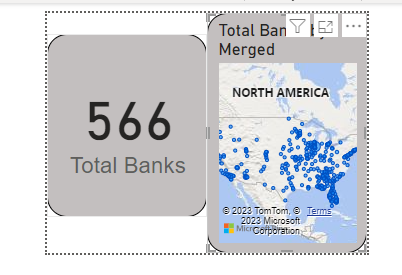

This screenshot's page, from the dashboard's own definition file:
{"tool":"powerbi","page":{"name":"Tooltip","canvas":[320,240],"ordinal":1},"visuals":[{"type":"card","fields":{"Values":["Failed Banks.Total Banks"]},"box":[0,21,160,183],"z":0},{"type":"map","fields":{"Size":["Failed Banks.Total Banks"],"Category":["Failed Banks.Merged"]},"box":[160,0,160,240],"z":1000}]}

Visuals, with their boxes on the page's 320x240 design canvas (x1, y1, x2, y2). These are canvas units, not pixel positions in the 402x275 screenshot, which may show the page scaled, cropped or inside an application window:
card - Failed Banks.Total Banks: [left=0, top=21, right=160, bottom=204]
map - Failed Banks.Total Banks x Failed Banks.Merged: [left=160, top=0, right=320, bottom=240]
